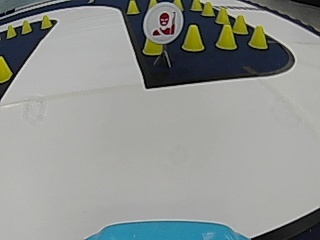evil: (143, 3, 183, 45)
